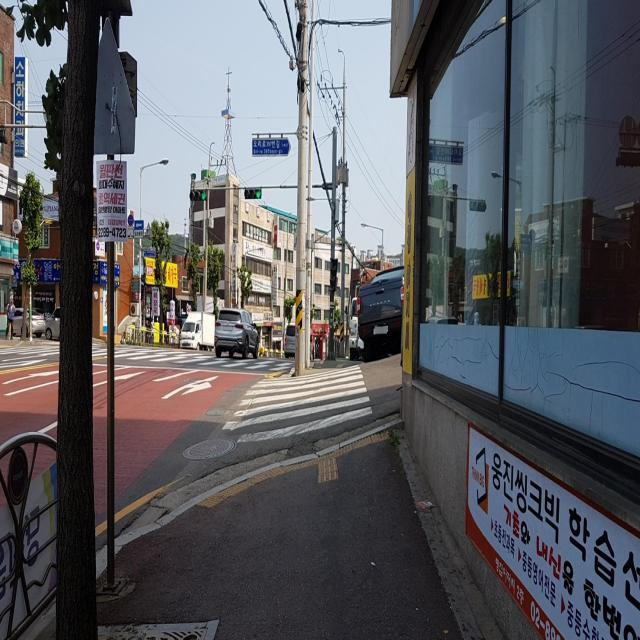횡단보도: (221, 363, 374, 444), (0, 341, 296, 374)
